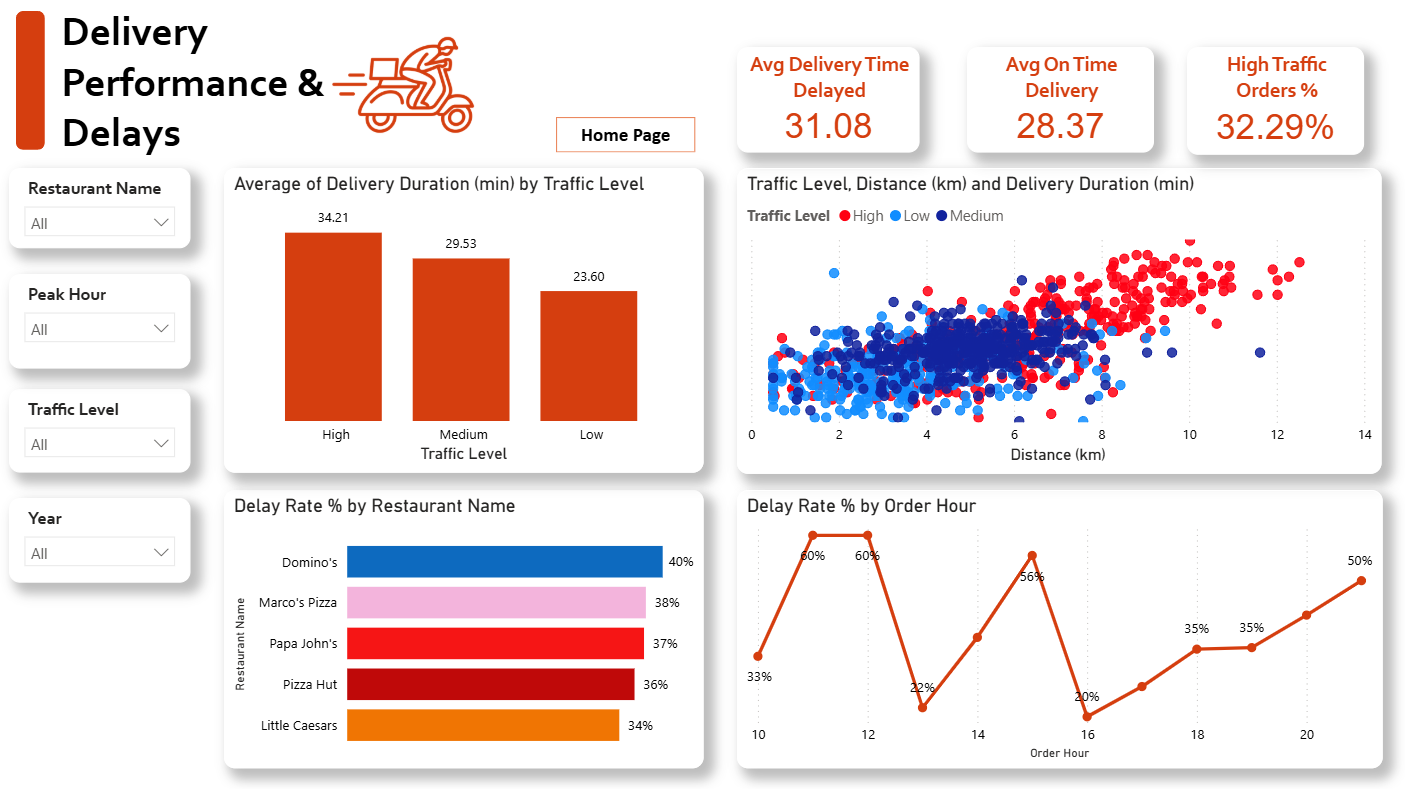

Layout of this report page (visuals, bound fields, positions):
{"tool":"powerbi","page":{"name":"Delivery Performance","canvas":[1280,720],"ordinal":1},"visuals":[{"type":"card","title":"Avg Delivery Time Delayed","fields":{"Values":["_measures.Avg Delivery Time - Delayed"]},"box":[670,42.5,166.2,96.2],"z":0},{"type":"card","title":"Avg On Time Delivery","fields":{"Values":["_measures.Avg Delivery Time - On Time"]},"box":[878.8,42.5,170,96.2],"z":1000},{"type":"card","title":"High Traffic Orders %","fields":{"Values":["_measures.% High Traffic Orders"]},"box":[1078.8,42.5,161.2,97.5],"z":2000},{"type":"clusteredBarChart","fields":{"Category":["Pizza_delivery.Restaurant Name"],"Y":["_measures.Delay Rate %"]},"box":[204,445,436,253],"z":3000},{"type":"clusteredColumnChart","fields":{"Category":["Pizza_delivery.Traffic Level"],"Y":["Avg(Pizza_delivery.Delivery Duration (min))"]},"box":[204,153,436,277],"z":4000},{"type":"scatterChart","fields":{"Series":["Pizza_delivery.Traffic Level"],"X":["Pizza_delivery.Distance (km)"],"Y":["Pizza_delivery.Delivery Duration (min)"]},"box":[670,152.5,586.2,277.5],"z":5000},{"type":"lineChart","fields":{"Category":["Pizza_delivery.Order Hour"],"Y":["_measures.Delay Rate %"]},"box":[670,445.4,586.7,253.3],"z":6000},{"type":"slicer","fields":{"Values":["Pizza_delivery.Traffic Level"]},"box":[8,354,165,76],"z":7000},{"type":"slicer","fields":{"Values":["Pizza_delivery.Peak Hour"]},"box":[8,249,165,86],"z":8000},{"type":"slicer","fields":{"Values":["Pizza_delivery.Restaurant Name"]},"box":[8,153,165,73],"z":9000},{"type":"shape","box":[14.8,10,26.2,126.2],"z":10000},{"type":"textbox","box":[51,0,337.5,147.5],"z":11000},{"type":"image","box":[300,13,133,129],"z":12000},{"type":"actionButton","title":"Delivery Performance","box":[505.6,106.7,126.7,32.2],"z":13000},{"type":"slicer","fields":{"Values":["Pizza_delivery.Date.Variation.Date Hierarchy.Year"]},"box":[8,453,165,77],"z":14000}]}

Visuals, with their boxes in screenshot pixels (x1, y1, x2, y2), scaled from the page's 1280x720 canvas onto the 1405x789 screenshot:
"Avg Delivery Time Delayed" card: <bbox>735, 47, 918, 152</bbox>
"Avg On Time Delivery" card: <bbox>965, 47, 1151, 152</bbox>
"High Traffic Orders %" card: <bbox>1184, 47, 1361, 153</bbox>
clusteredBarChart - Pizza_delivery.Restaurant Name x _measures.Delay Rate %: <bbox>224, 488, 702, 765</bbox>
clusteredColumnChart - Pizza_delivery.Traffic Level x Avg(Pizza_delivery.Delivery Duration (min)): <bbox>224, 168, 702, 471</bbox>
scatterChart - Pizza_delivery.Traffic Level x Pizza_delivery.Distance (km): <bbox>735, 167, 1379, 471</bbox>
lineChart - Pizza_delivery.Order Hour x _measures.Delay Rate %: <bbox>735, 488, 1379, 766</bbox>
slicer - Pizza_delivery.Traffic Level: <bbox>9, 388, 190, 471</bbox>
slicer - Pizza_delivery.Peak Hour: <bbox>9, 273, 190, 367</bbox>
slicer - Pizza_delivery.Restaurant Name: <bbox>9, 168, 190, 248</bbox>
shape: <bbox>16, 11, 45, 149</bbox>
textbox: <bbox>56, 0, 426, 162</bbox>
image: <bbox>329, 14, 475, 156</bbox>
"Delivery Performance" actionButton: <bbox>555, 117, 694, 152</bbox>
slicer - Pizza_delivery.Date.Variation.Date Hierarchy.Year: <bbox>9, 496, 190, 581</bbox>
